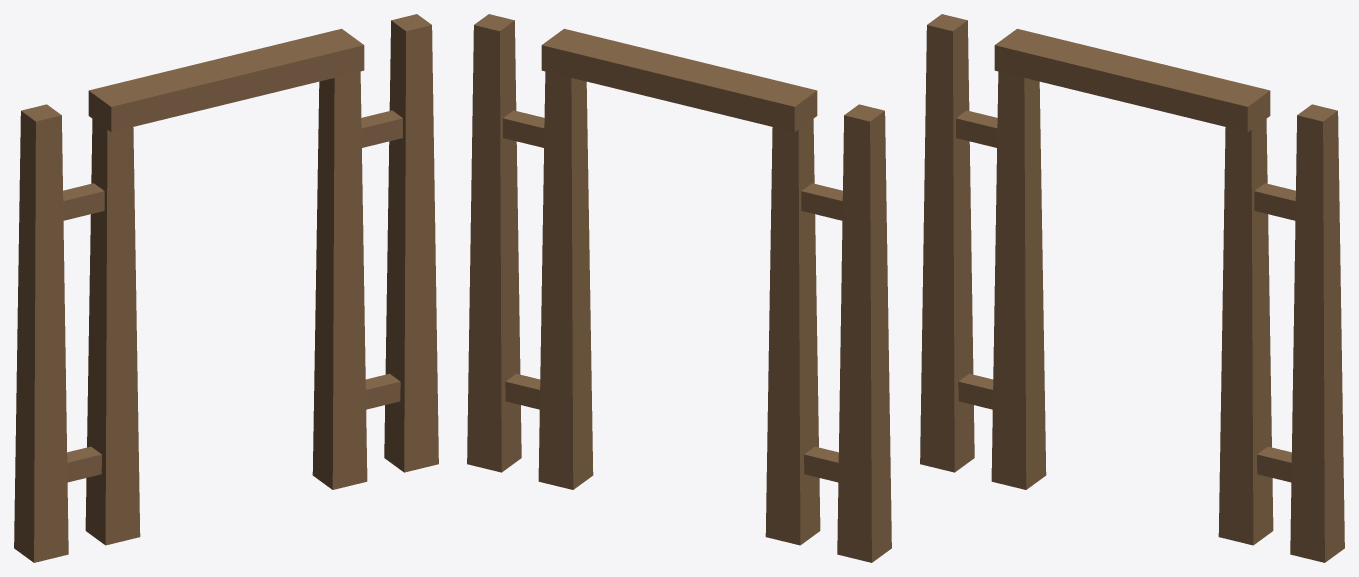
Rendered from kit-gate.glb.
The picture shows the model from 3 angles, left to right: view 1: azimuth 30°, elevation 25°; view 2: azimuth 150°, elevation 25°; view 3: azimuth 330°, elevation 25°; orthographic projection.
Parts seen in each view (by area): view 1: fence-doorway; view 2: fence-doorway; view 3: fence-doorway.
Part boxes in pixels (x1=…): fence-doorway: x1=14, y1=14, x2=438, y2=562; fence-doorway: x1=467, y1=14, x2=891, y2=562; fence-doorway: x1=920, y1=14, x2=1344, y2=562.
Size of the model in its own units: 1.2 by 1.24 by 0.1155.
